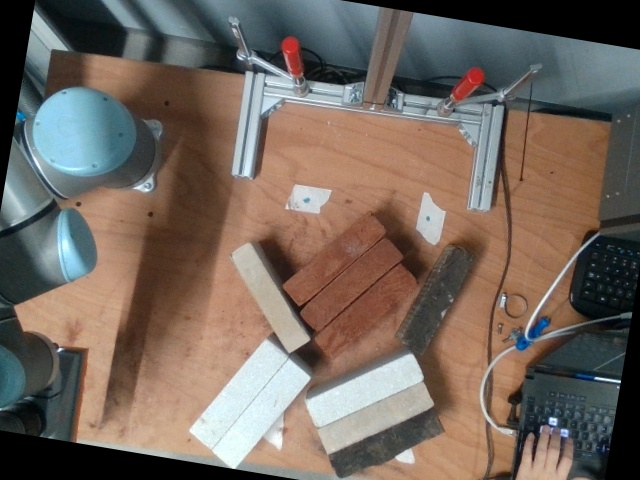brick-side: (213, 363, 307, 466), (192, 344, 283, 445), (302, 240, 399, 327), (287, 216, 383, 302), (318, 266, 414, 352), (231, 247, 306, 350), (308, 357, 421, 425), (320, 383, 432, 451), (330, 411, 442, 476), (405, 249, 472, 353)
